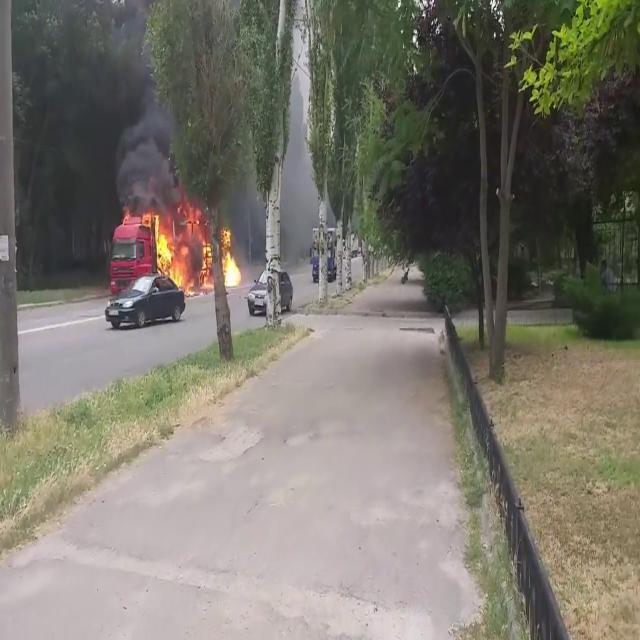Fire: (142, 204, 244, 292)
Smoke: (29, 2, 188, 212)
